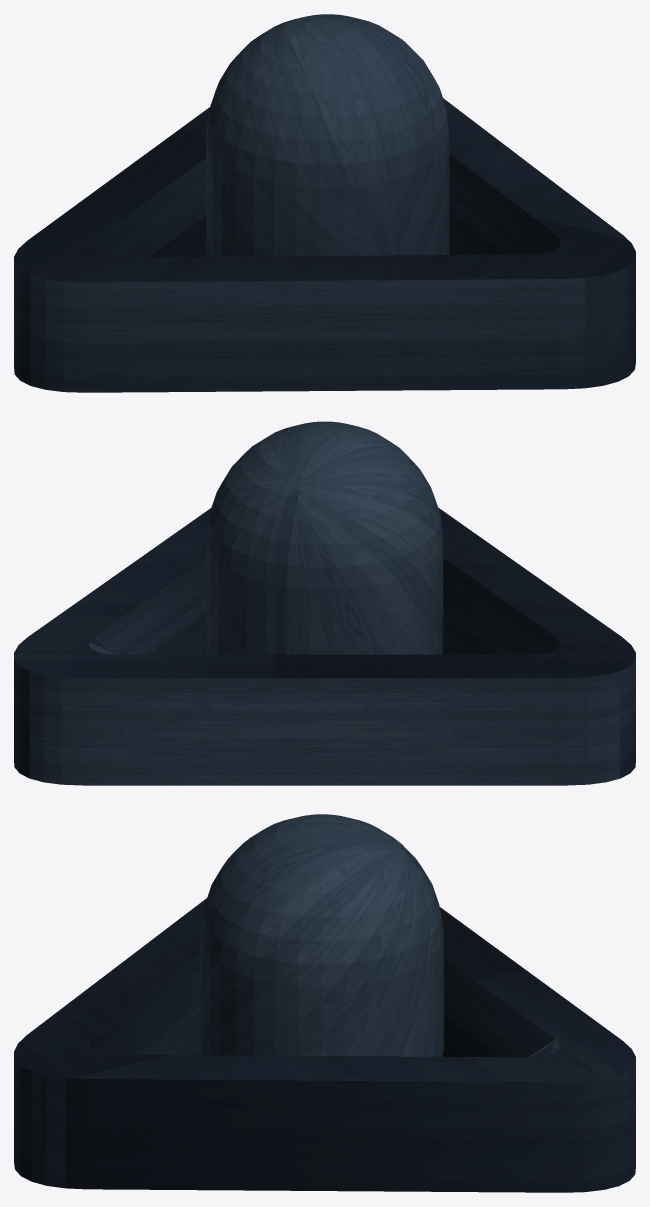
Rendered from triangle_paddle.obj.
3 views of the same model, one above another, from view 1: azimuth 30°, elevation 25°; view 2: azimuth 150°, elevation 25°; view 3: azimuth 270°, elevation 25° (orthographic). The views are drawn at different scales.
Visible parts, largest first — view 1: Plane.000_Plane.003; view 2: Plane.000_Plane.003; view 3: Plane.000_Plane.003.
Part boxes in pixels (box(x1,y1,x2,y2)): Plane.000_Plane.003: box(14, 14, 635, 392); Plane.000_Plane.003: box(14, 421, 635, 785); Plane.000_Plane.003: box(14, 814, 635, 1192).
Size of the model in its own units: 1.17 by 0.6279 by 1.28.
Materials: 1 (1 with a texture image).
